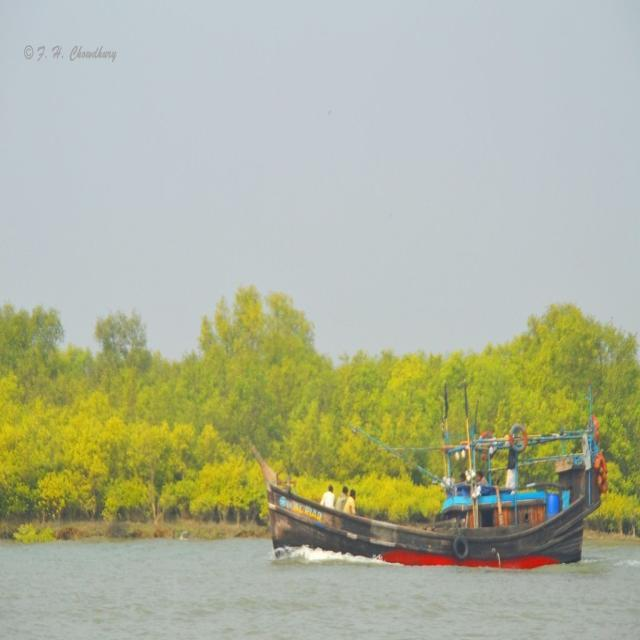boat: (257, 483, 610, 574)
